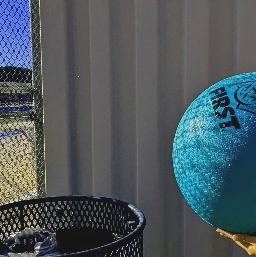algae: (175, 67, 256, 234)
